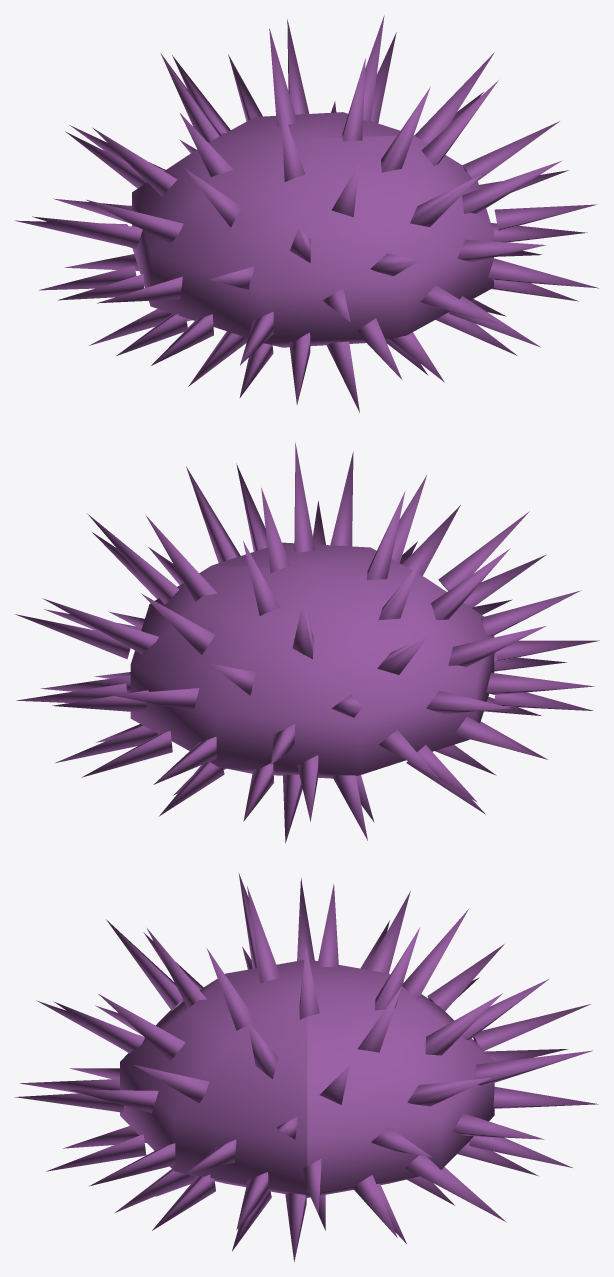
File: sea_urchin_purple_lo.glb
3 views of the same model, one above another, from view 1: azimuth 30°, elevation 25°; view 2: azimuth 150°, elevation 25°; view 3: azimuth 270°, elevation 25° (orthographic).
Visible parts, largest first — view 1: sea_urchin_purple_lo; view 2: sea_urchin_purple_lo; view 3: sea_urchin_purple_lo.
Boxes of the visible parts, x1=… form: sea_urchin_purple_lo: x1=15, y1=15, x2=598, y2=412; sea_urchin_purple_lo: x1=14, y1=442, x2=599, y2=843; sea_urchin_purple_lo: x1=14, y1=873, x2=598, y2=1261.
Bounding box in the file's own units: 0.1199 × 0.0613 × 0.119.
